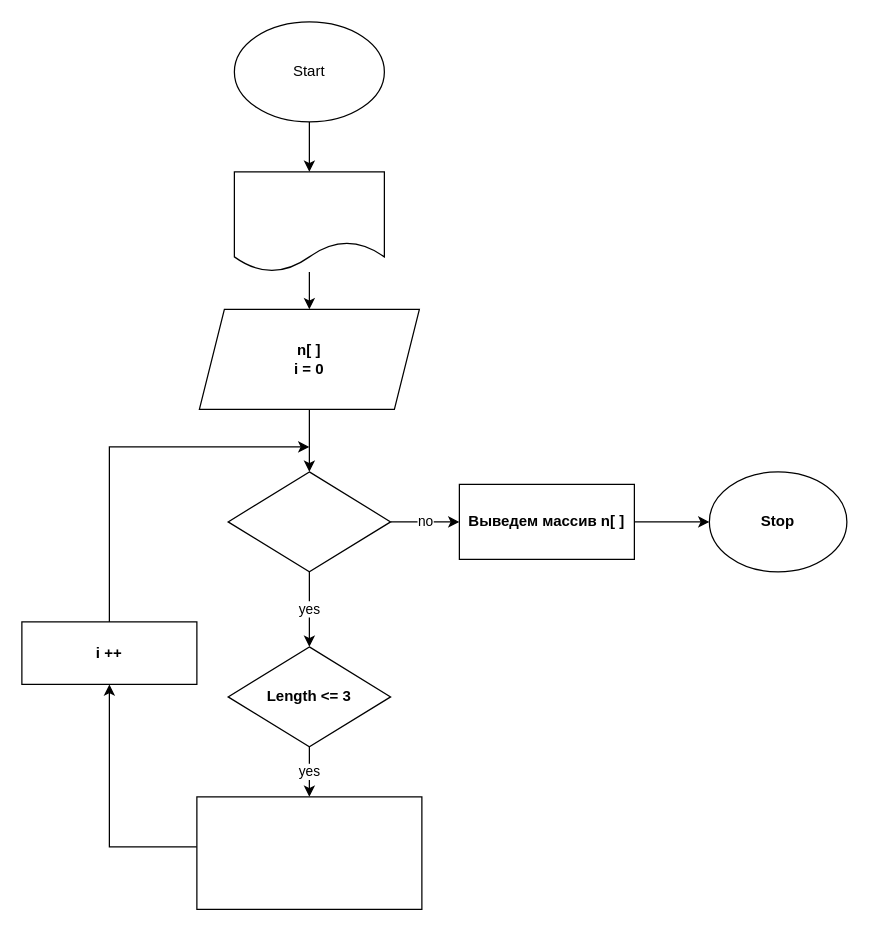
This 869x931 diagram has some shape labels left out. Here are the shapes that lost their labels. From the top down, the box of each, then its label:
(233, 171, 384, 272): j = ? m[ ] = ?
(227, 471, 391, 572): i < j
(196, 796, 422, 909): Скопируем m[i] в массив n[i]
